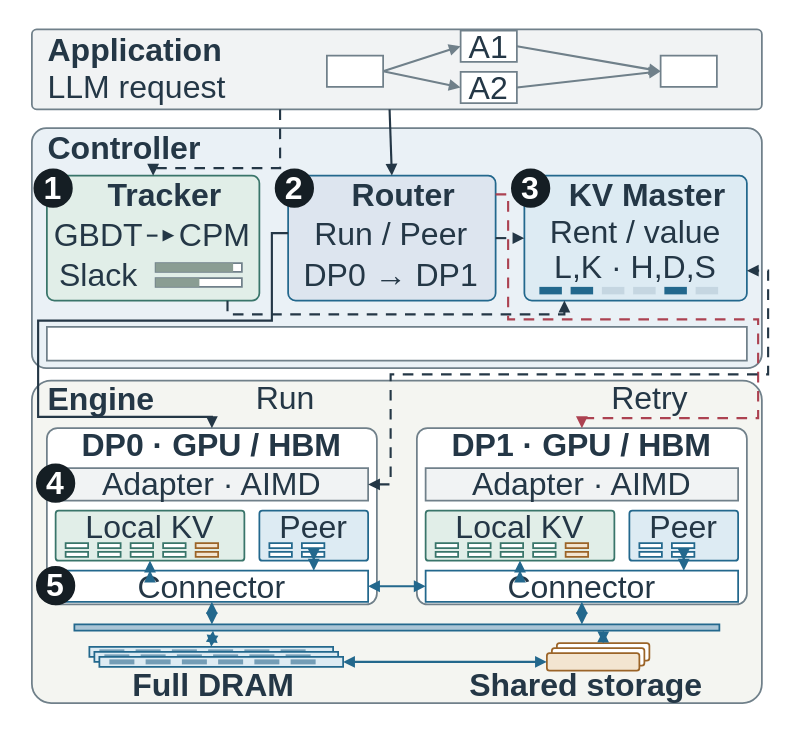
This 800x733 diagram has some shape labels left out. Each missing label, with the centre of its shape:
"A0" belongs at (354,70).
"A3" belongs at (688,70).
"Manifests / log / leases · H,D,S rent" belongs at (396,343).
